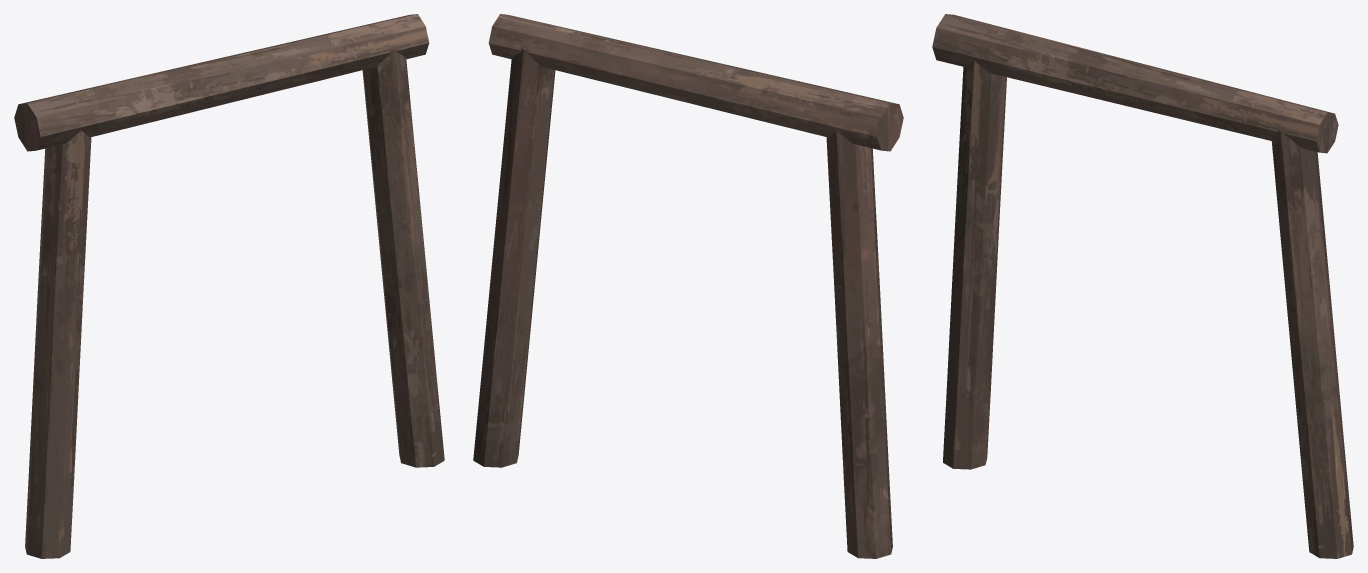
3 renders of one model, left to right at view 1: azimuth 30°, elevation 25°; view 2: azimuth 150°, elevation 25°; view 3: azimuth 330°, elevation 25°, orthographic. The views are drawn at different scales.
Parts seen in each view (by area): view 1: body0_model0_lod0_mesh0; view 2: body0_model0_lod0_mesh0; view 3: body0_model0_lod0_mesh0.
Part boxes in pixels (x1=…): body0_model0_lod0_mesh0: x1=14, y1=14, x2=444, y2=558; body0_model0_lod0_mesh0: x1=473, y1=14, x2=903, y2=558; body0_model0_lod0_mesh0: x1=932, y1=14, x2=1353, y2=558.
Bounding box in the file's own units: 239 × 247 × 26.34.
Materials: 1 (1 with a texture image).
